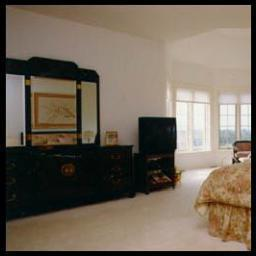Electrodomestico: (139, 118, 177, 152)
